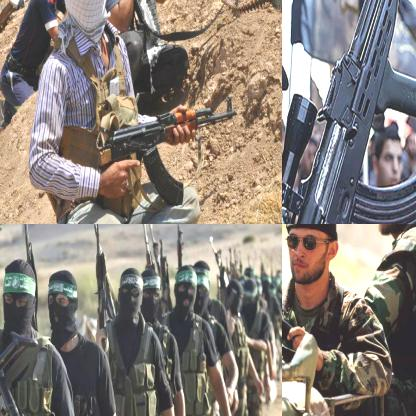rifle: (282, 0, 415, 223), (98, 92, 242, 217), (90, 224, 113, 353), (17, 224, 45, 327), (138, 224, 153, 273), (0, 0, 48, 12)
